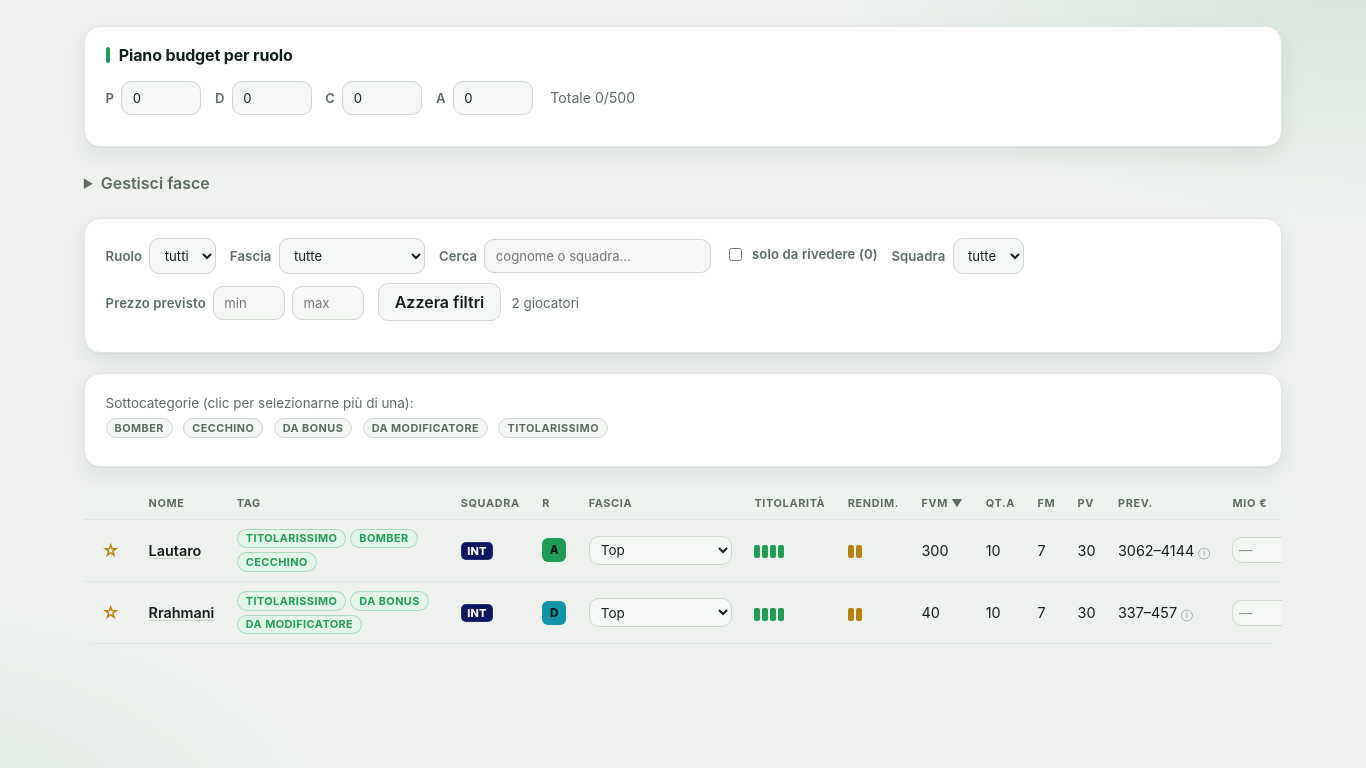
Test case: StudioTab › stella target
This screenshot has width=1366, height=768.
Click the button named "target" at (111, 550), box left=95, top=537, right=126, bottom=563
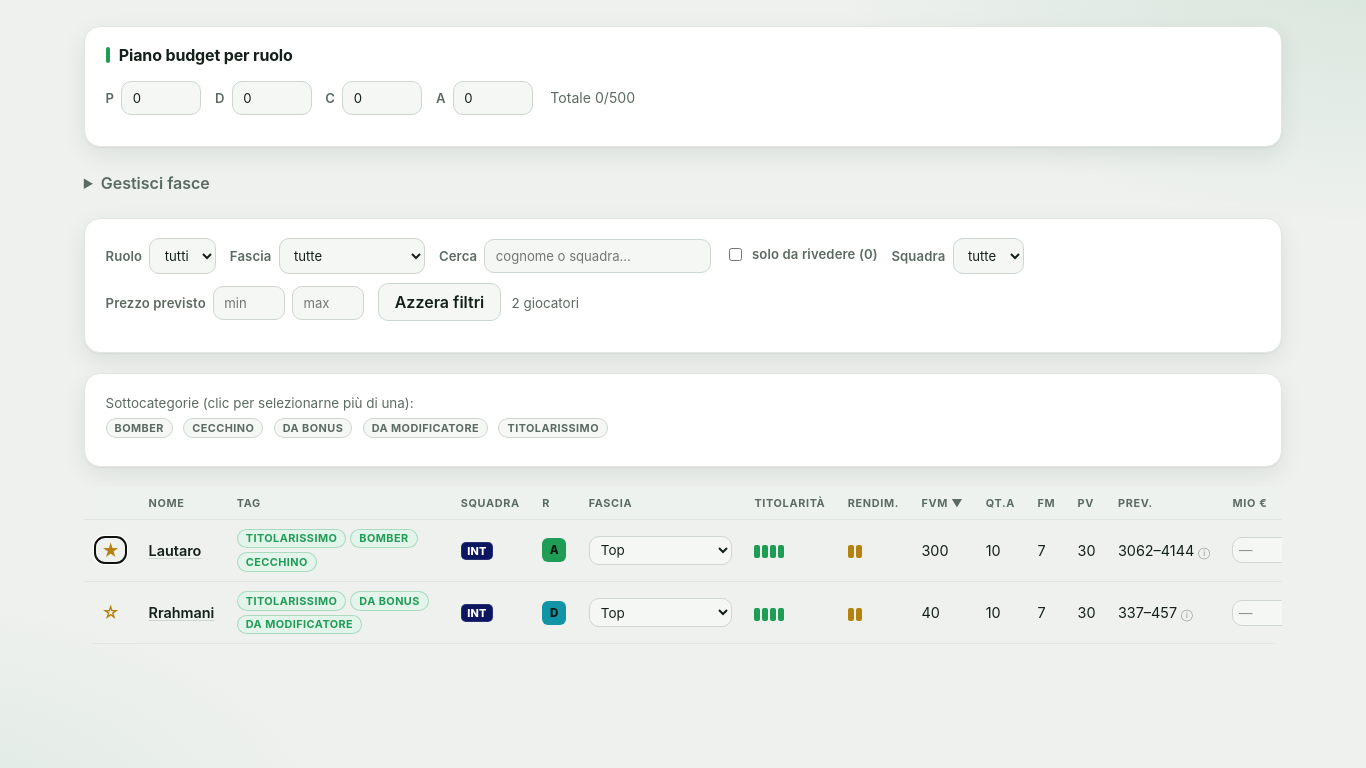
Now the button named "target" reads "★", box left=95, top=537, right=126, bottom=563
